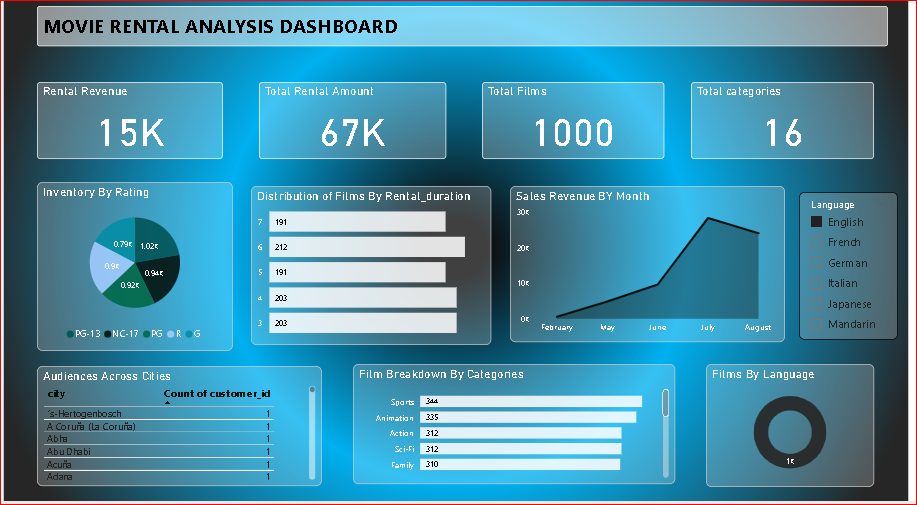

This screenshot's page, from the dashboard's own definition file:
{"tool":"powerbi","page":{"name":"Dashboard","canvas":[1316,711],"ordinal":0},"visuals":[{"type":"lineChart","title":"Sales Revenue BY Month","fields":{"Category":["payment.payment_date.Variation.Date Hierarchy.Month"],"Y":["CSV.Total_sales"]},"box":[734.4,264.6,389.1,220.7],"z":0},{"type":"barChart","title":"Distribution of Films By Rental_duration","fields":{"Category":["film.rental_duration"],"Y":["CountNonNull(film.title)"]},"box":[367.9,264.6,339.6,225],"z":1000},{"type":"pieChart","title":"Inventory By Rating","fields":{"Category":["film.rating"],"Y":["Count(inventory.inventory_id)"]},"box":[64.4,258.9,277,238.6],"z":2000},{"type":"barChart","title":"Film Breakdown By Categories","fields":{"Category":["category.name"],"Y":["CountNonNull(inventory.film_id)"]},"box":[512.2,516.5,455.6,169.8],"z":3000},{"type":"tableEx","title":"Audiences Across Cities","fields":{"Values":["city.city","Count(customer.customer_id)"]},"box":[65.1,519.3,403.3,169.8],"z":4000},{"type":"card","title":"Total Rental Amount","fields":{"Values":["CSV.Total_sales"]},"box":[379.2,117.4,264.6,109],"z":5000},{"type":"card","title":"Total Films","fields":{"Values":["CSV.Totaal_films"]},"box":[694.8,117.4,257.5,109],"z":6000},{"type":"donutChart","title":"Films By Language","fields":{"Category":["language.name"],"Y":["CountNonNull(film.title)"]},"box":[1011.8,516.5,237.7,174.1],"z":7000},{"type":"slicer","fields":{"Values":["language.name"]},"box":[1143,273.6,140.2,209.2],"z":8000},{"type":"card","title":"Rental Revenue","fields":{"Values":["film.RENTAL_REVENUE"]},"box":[65.1,117.4,263.2,109],"z":9000},{"type":"textbox","box":[65.1,9.9,1204.2,56.6],"z":10000},{"type":"card","title":"Total categories","fields":{"Values":["film_category.Measure"]},"box":[990.5,117.4,259,109],"z":10001}]}

Visuals, with their boxes in screenshot pixels (x1, y1, x2, y2), scaled from the page's 1316x711 canvas onto the 917x505 screenshot:
"Sales Revenue BY Month" lineChart: x1=512 y1=188 x2=783 y2=345
"Distribution of Films By Rental_duration" barChart: x1=256 y1=188 x2=493 y2=348
"Inventory By Rating" pieChart: x1=45 y1=184 x2=238 y2=353
"Film Breakdown By Categories" barChart: x1=357 y1=367 x2=674 y2=487
"Audiences Across Cities" tableEx: x1=45 y1=369 x2=326 y2=489
"Total Rental Amount" card: x1=264 y1=83 x2=449 y2=161
"Total Films" card: x1=484 y1=83 x2=664 y2=161
"Films By Language" donutChart: x1=705 y1=367 x2=871 y2=491
slicer - language.name: x1=796 y1=194 x2=894 y2=343
"Rental Revenue" card: x1=45 y1=83 x2=229 y2=161
textbox: x1=45 y1=7 x2=884 y2=47
"Total categories" card: x1=690 y1=83 x2=871 y2=161
